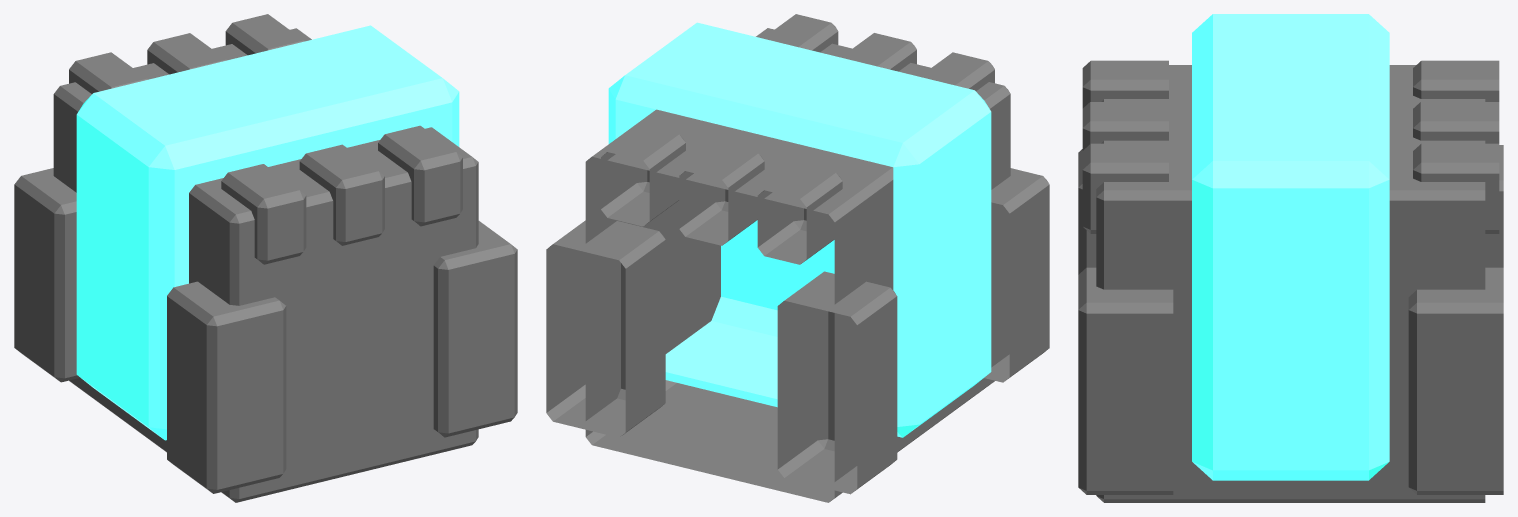
Rendered from FieldProjectorBlock.fbx.
3 renders of one model, left to right at view 1: azimuth 30°, elevation 25°; view 2: azimuth 150°, elevation 25°; view 3: azimuth 270°, elevation 25°, orthographic. The views are drawn at different scales.
Visible parts, largest first — view 1: pCube81; view 2: pCube81; view 3: pCube81.
Boxes of the visible parts, bbox=[...] form: pCube81: bbox=[14, 14, 517, 502]; pCube81: bbox=[546, 14, 1049, 502]; pCube81: bbox=[1078, 14, 1503, 502].
Size of the model in its own units: 100 by 100 by 109.
